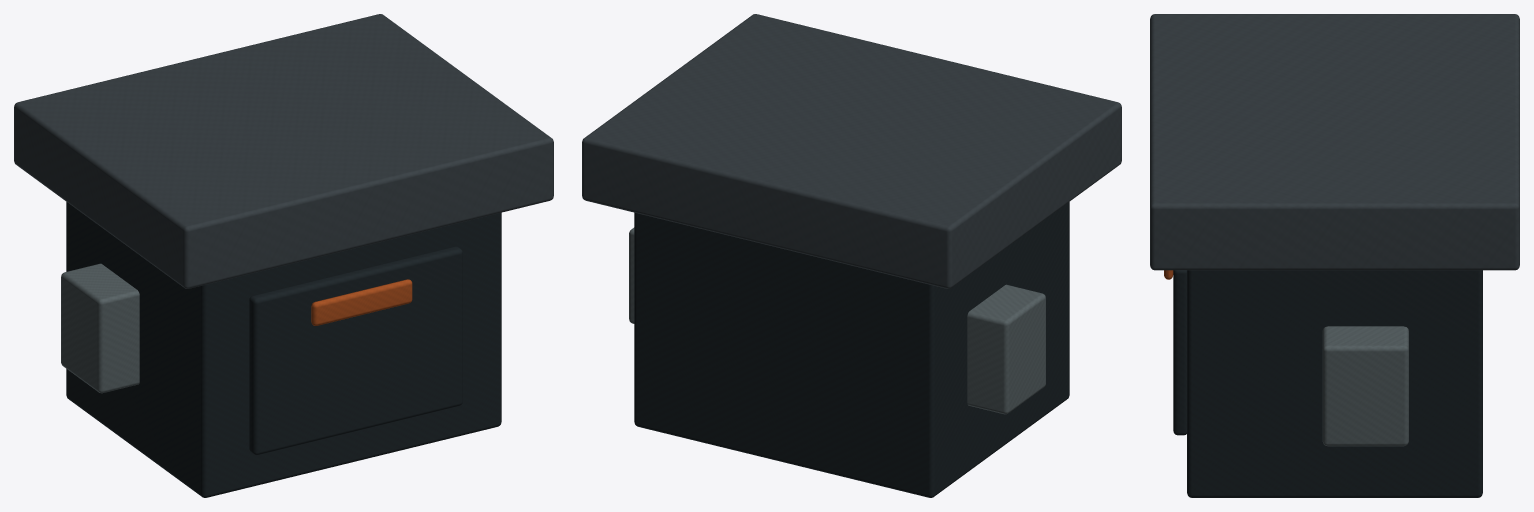
The model's file is CeilingCableJunction.fbx.
3 views of the same model, side by side, from view 1: azimuth 30°, elevation 25°; view 2: azimuth 150°, elevation 25°; view 3: azimuth 270°, elevation 25° (orthographic). The views are drawn at different scales.
Visible parts, largest first — view 1: CeilingCableJunction_Mesh; view 2: CeilingCableJunction_Mesh; view 3: CeilingCableJunction_Mesh.
Part boxes in pixels (x1,y1,x2,y2): CeilingCableJunction_Mesh: (14, 14, 553, 497); CeilingCableJunction_Mesh: (582, 14, 1121, 497); CeilingCableJunction_Mesh: (1150, 14, 1519, 497).
Bounding box in the file's own units: 76 × 56 × 60.
Materials: 4 (4 with a texture image).
